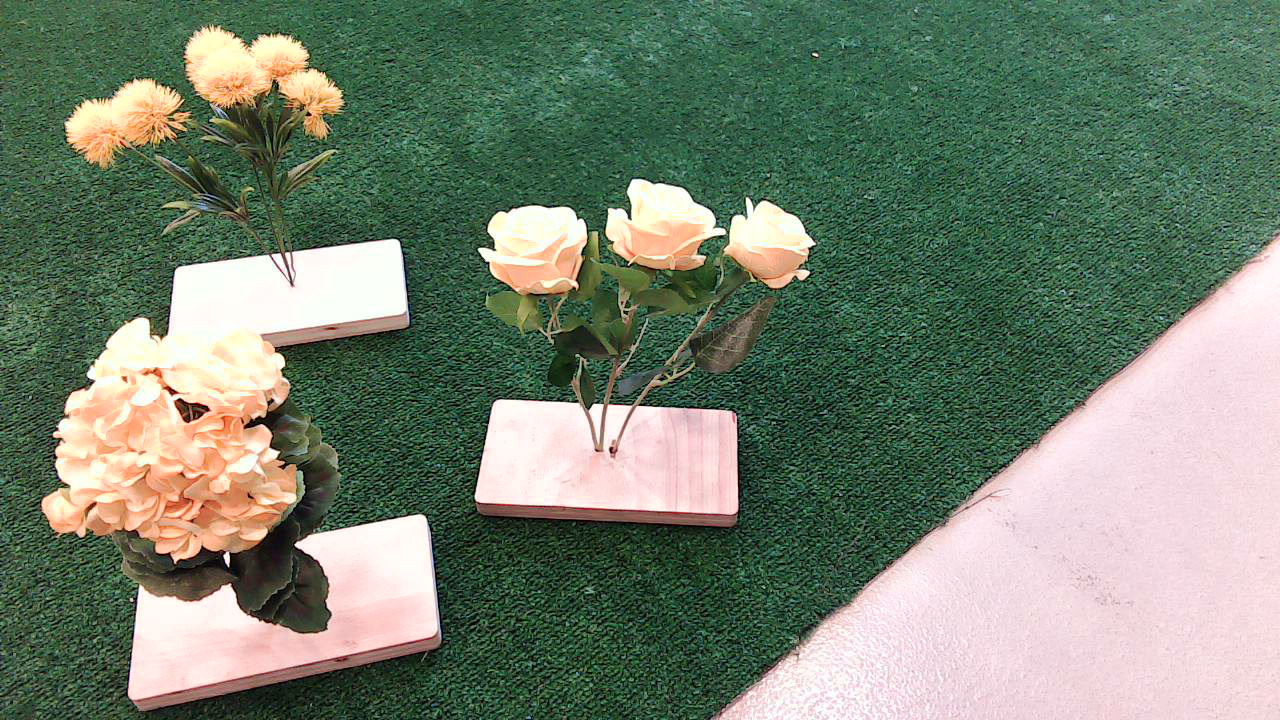dandelion: (49, 27, 372, 229)
geranium: (27, 317, 380, 643)
rose: (468, 187, 829, 397)
